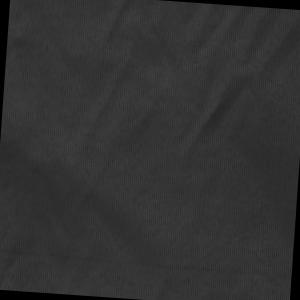Wrinkle: (62, 1, 175, 238), (177, 3, 300, 166), (1, 225, 46, 293)
